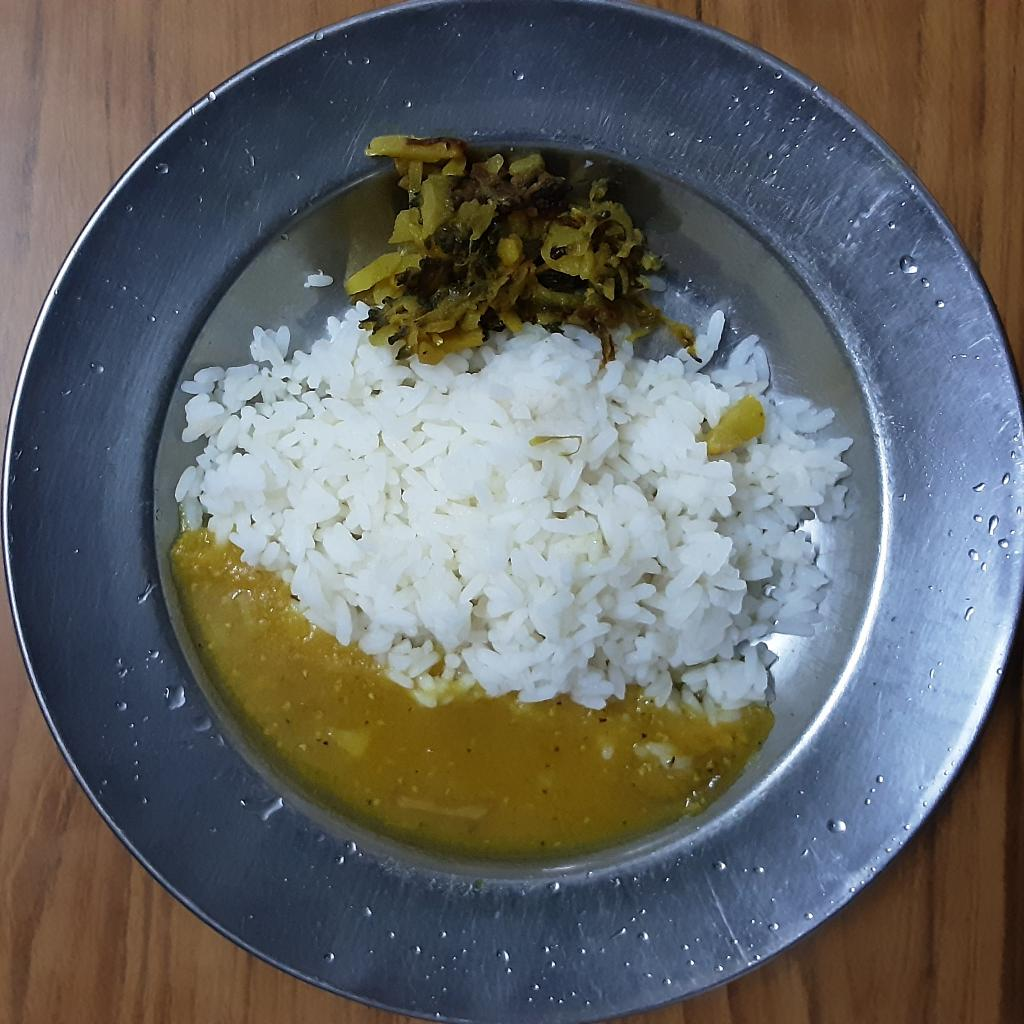daal: (168, 530, 775, 863)
korola-vaji: (345, 128, 665, 353)
rice: (176, 311, 850, 718)
